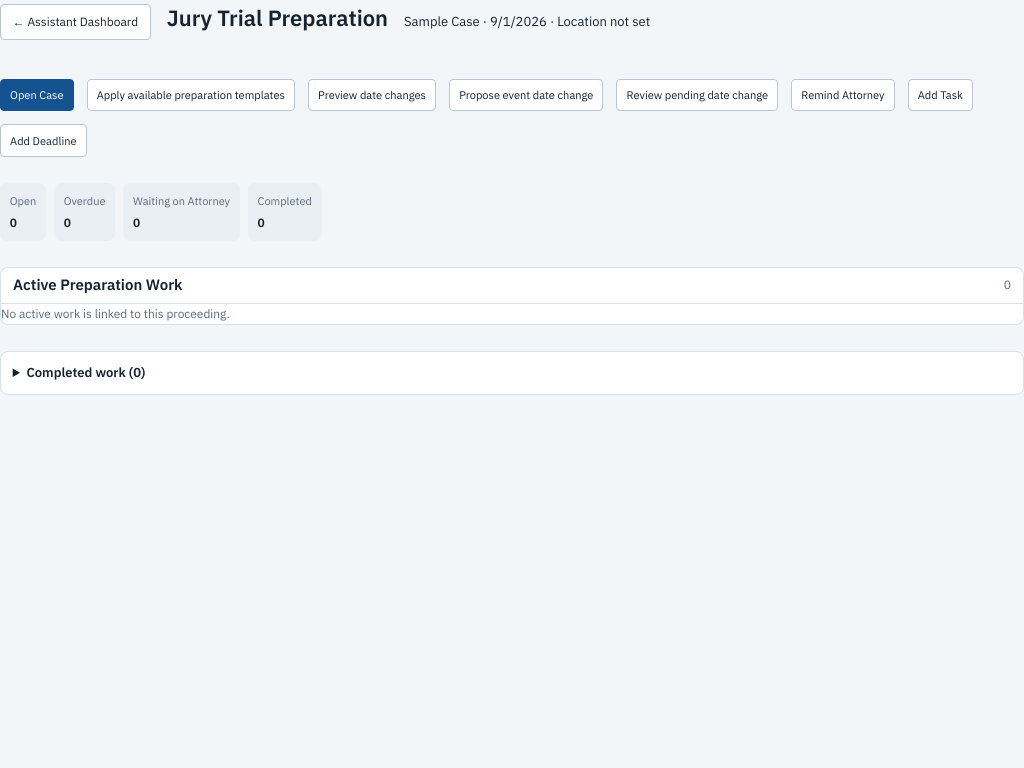
EventPreparationPage reminders › disables Record Reminder until a follow-up date is set
The width and height of the screenshot is (1024, 768).
Click the button "Remind Attorney" at (843, 95), box left=791, top=79, right=895, bottom=111
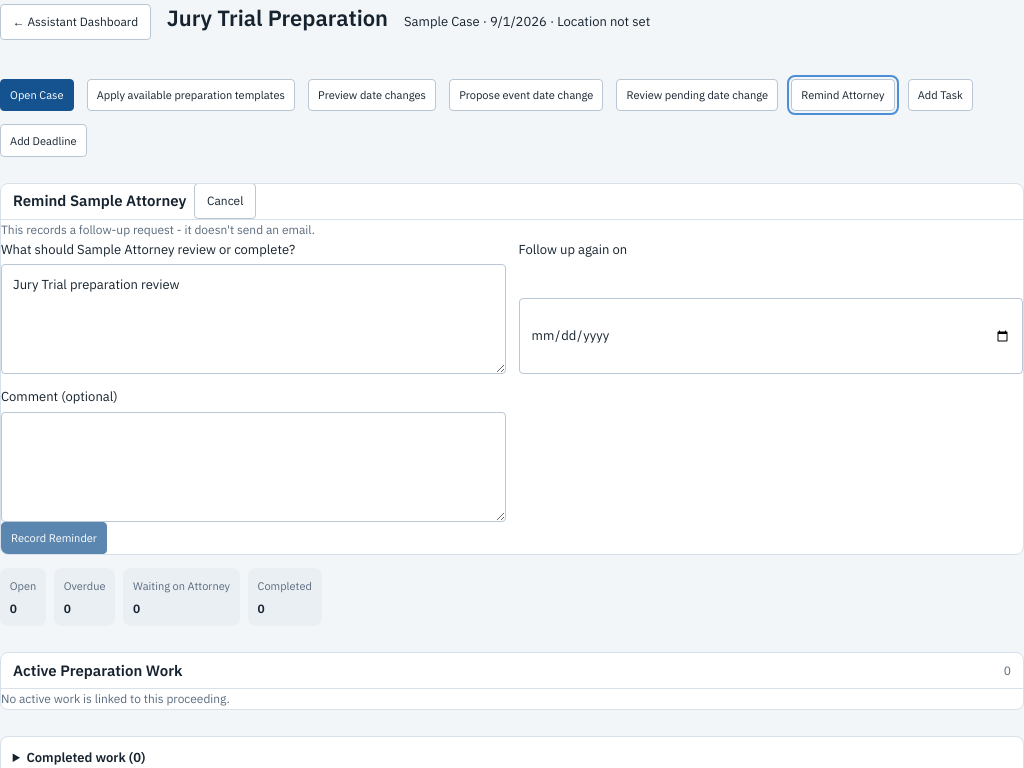
Now the button "Record Reminder" is disabled, box left=1, top=522, right=107, bottom=554
Type "2026-08-15" into the date field labelled "Follow up again on" at (771, 336), box left=518, top=298, right=1023, bottom=374
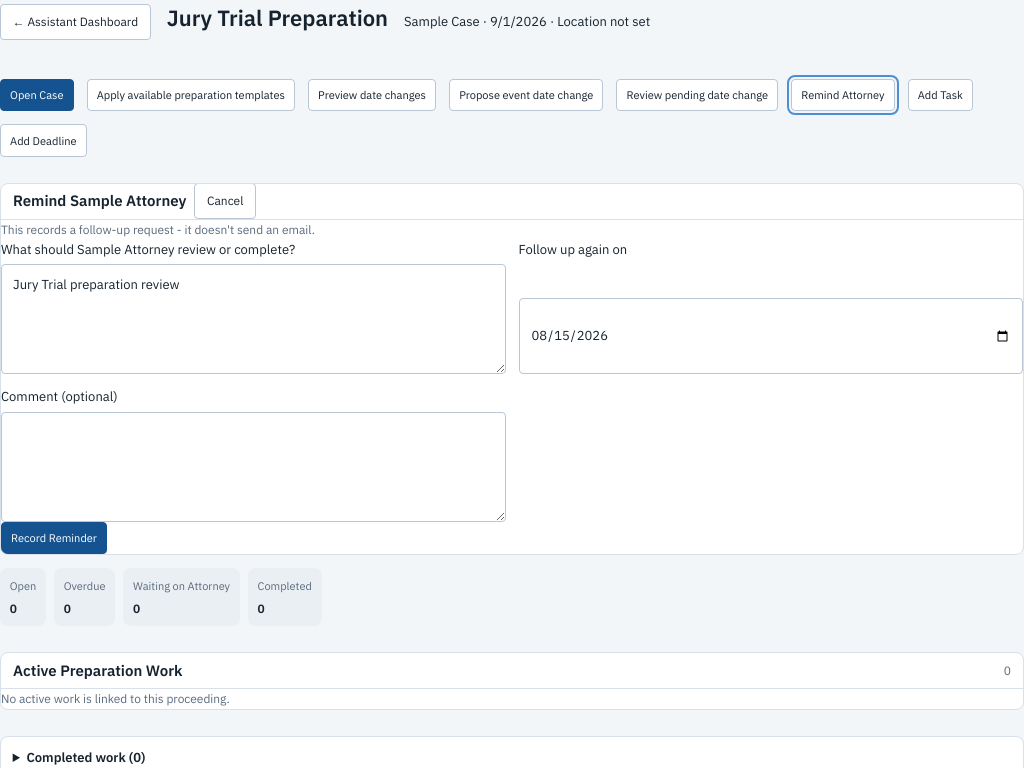
Now the button "Record Reminder" is enabled, box left=1, top=522, right=107, bottom=554
